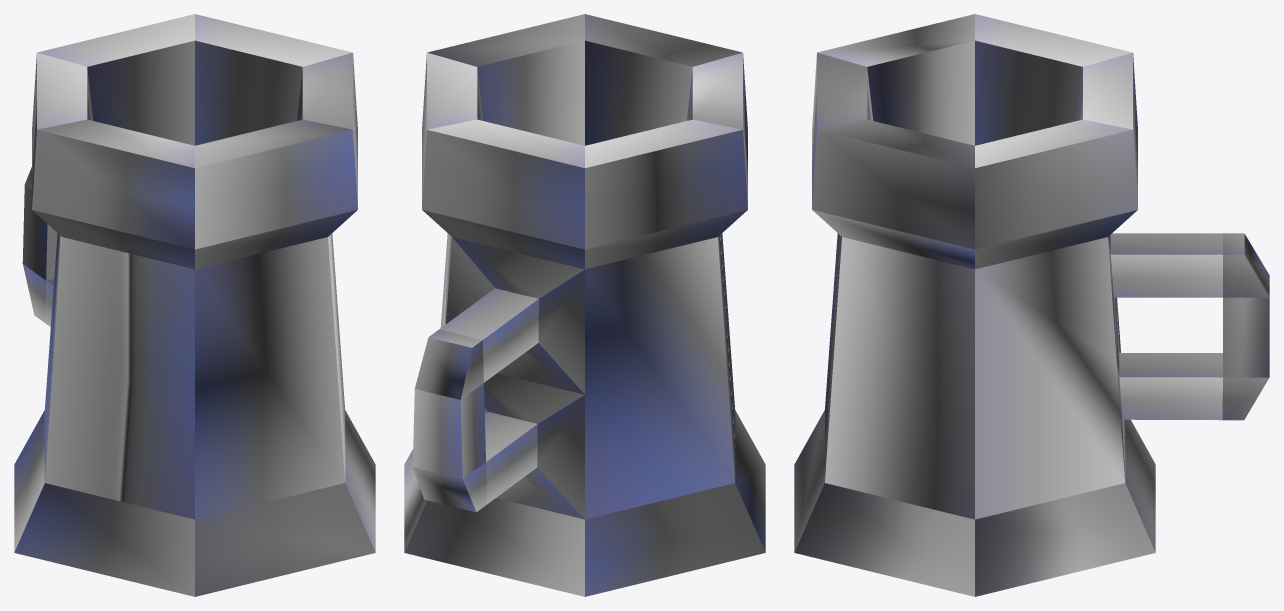
Rendered from beerStine.fbx.
3 views of the same model, side by side, from view 1: azimuth 30°, elevation 25°; view 2: azimuth 150°, elevation 25°; view 3: azimuth 270°, elevation 25° (orthographic).
Visible parts, largest first — view 1: beerStine; view 2: beerStine; view 3: beerStine.
Boxes of the visible parts, bbox=[...] form: beerStine: bbox=[14, 14, 375, 596]; beerStine: bbox=[404, 14, 765, 596]; beerStine: bbox=[794, 14, 1269, 596].
Bounding box in the file's own units: 74.12 × 81.83 × 84.42.
